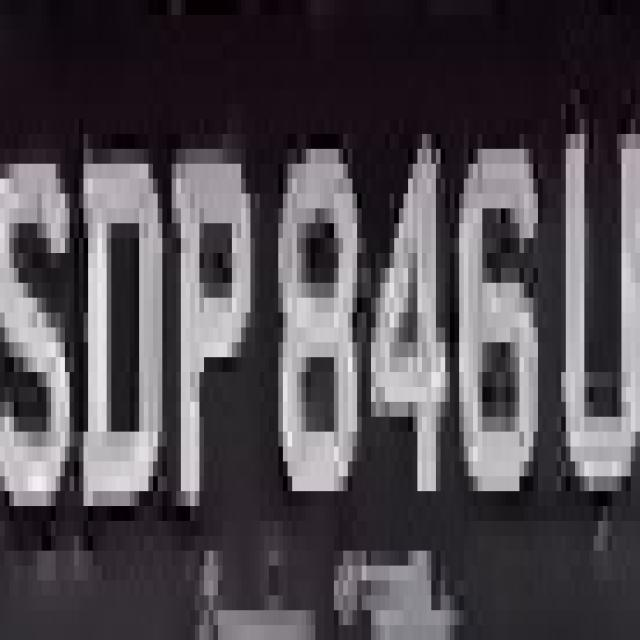4: (357, 89, 464, 566)
6: (450, 119, 552, 566)
8: (260, 89, 362, 521)
D: (74, 104, 172, 596)
P: (172, 90, 255, 580)
S: (0, 90, 79, 596)
U: (561, 74, 640, 536)
